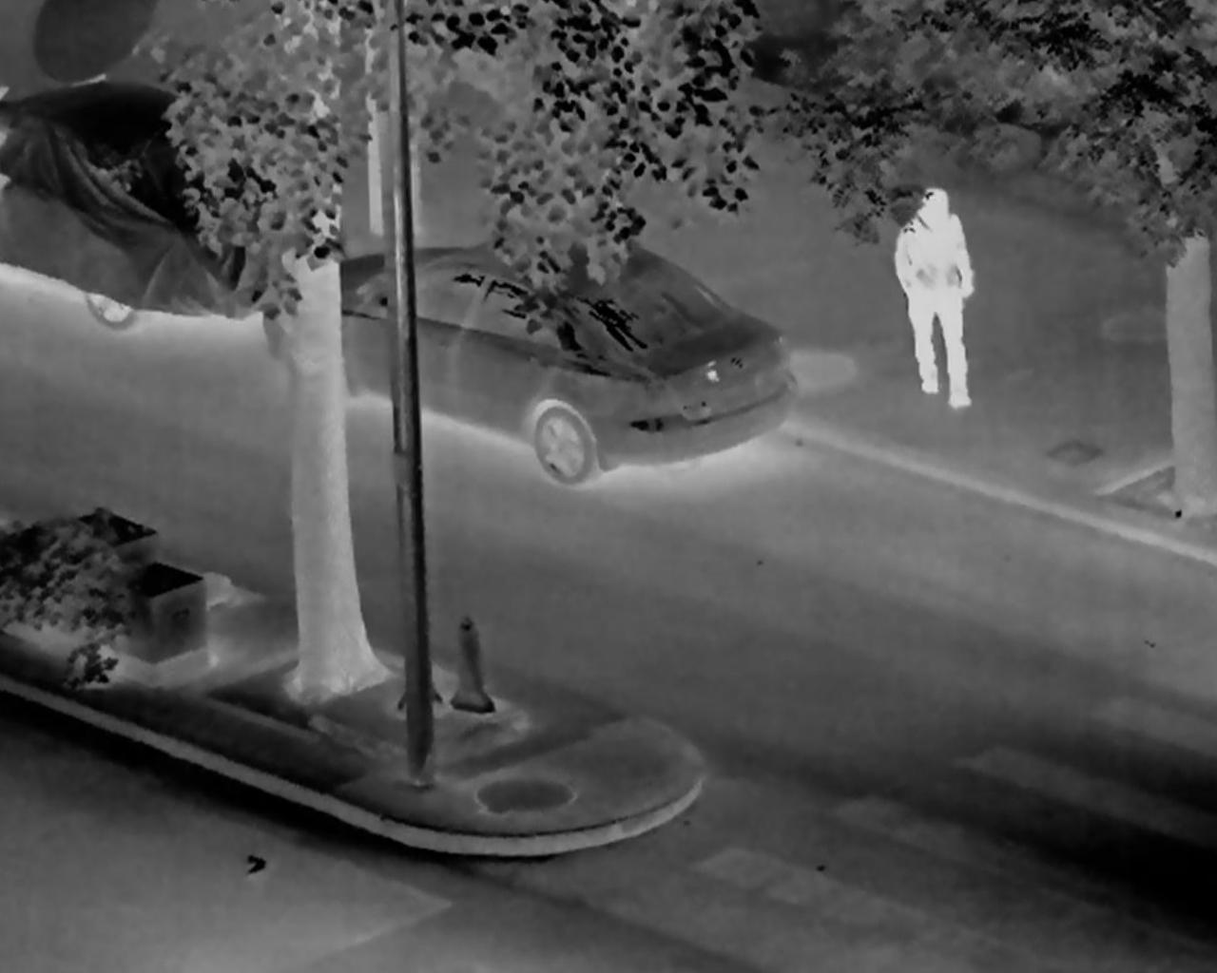person: (896, 189, 977, 408)
